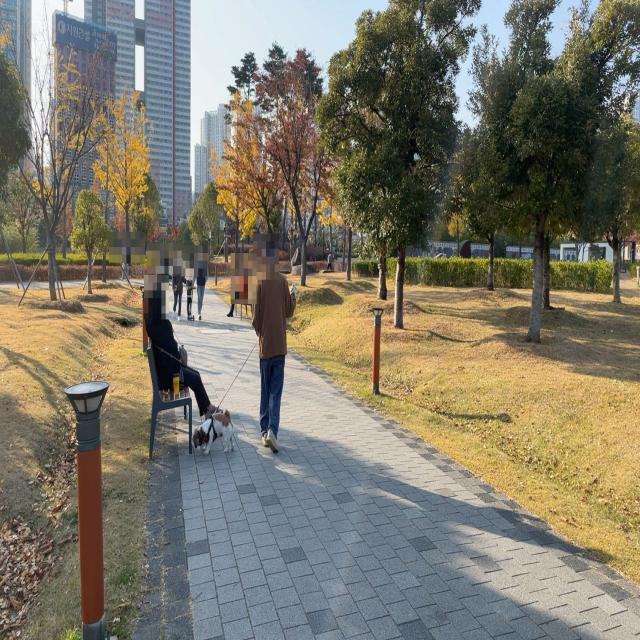Leashed_Dog: (192, 329, 270, 459)
